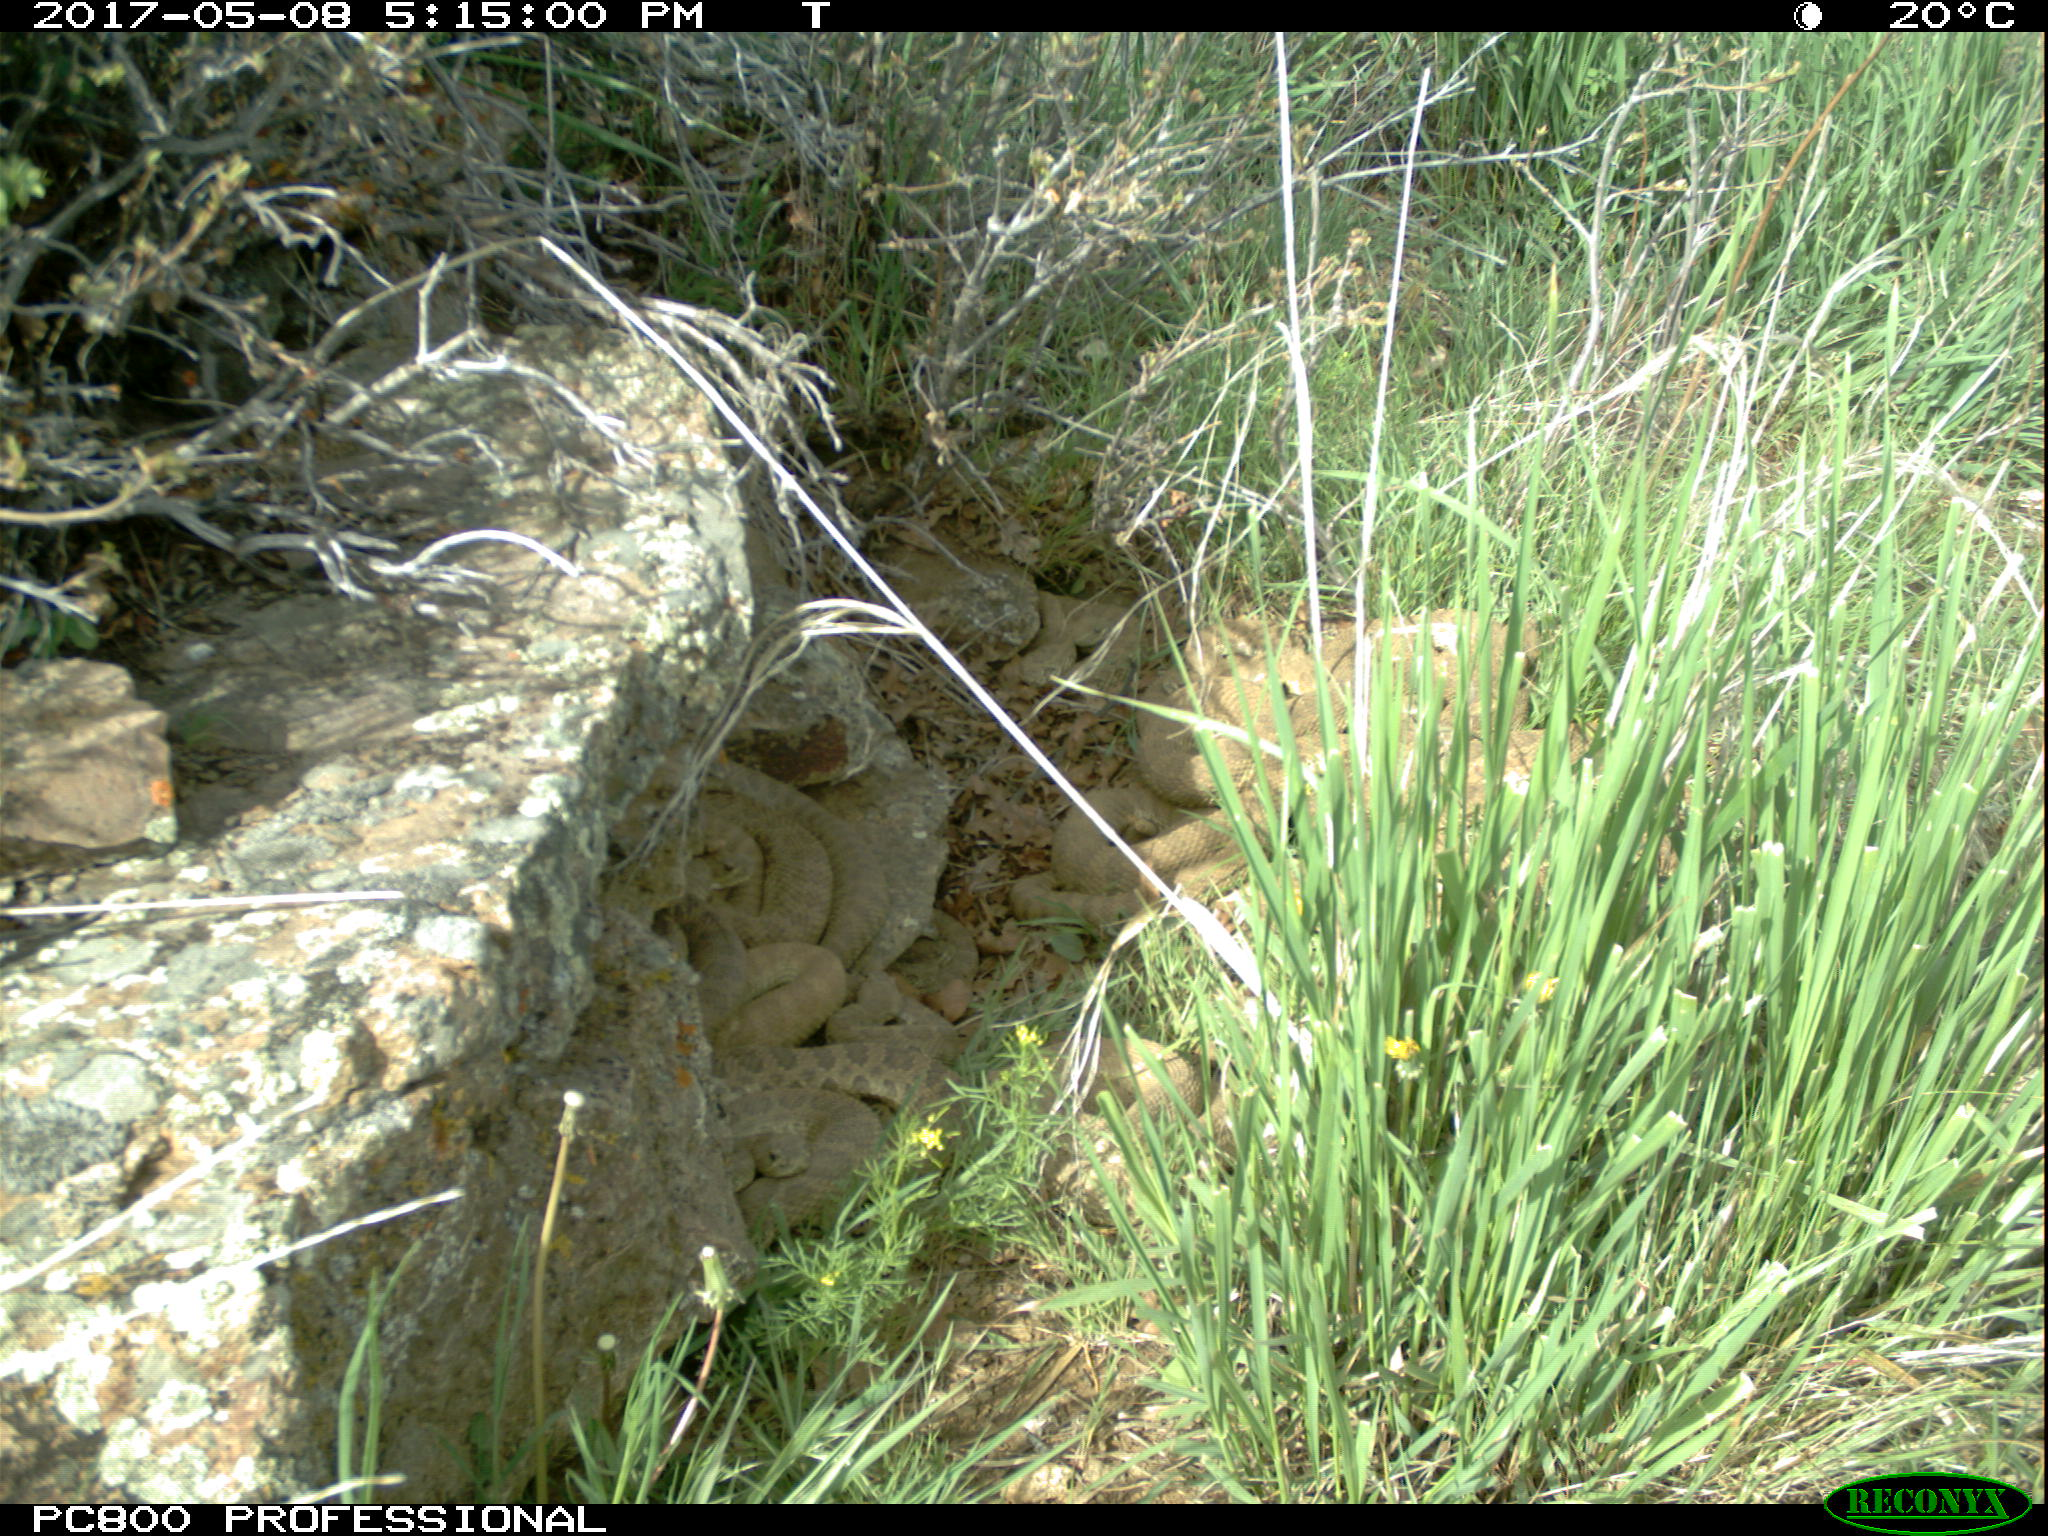snake: (1176, 624, 1545, 812), (685, 765, 889, 970), (697, 1050, 884, 1238), (1027, 781, 1243, 923), (697, 939, 850, 1066), (843, 966, 971, 1107)
